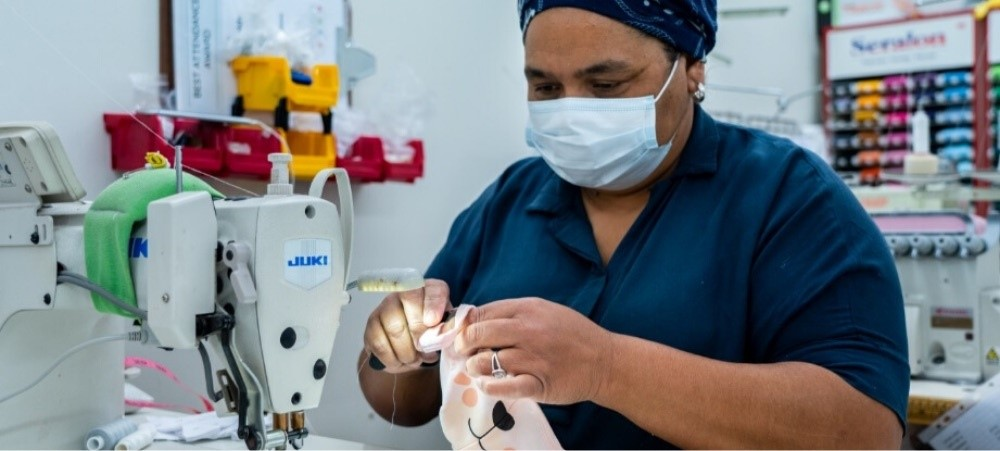face_with_mask: (510, 2, 708, 213)
